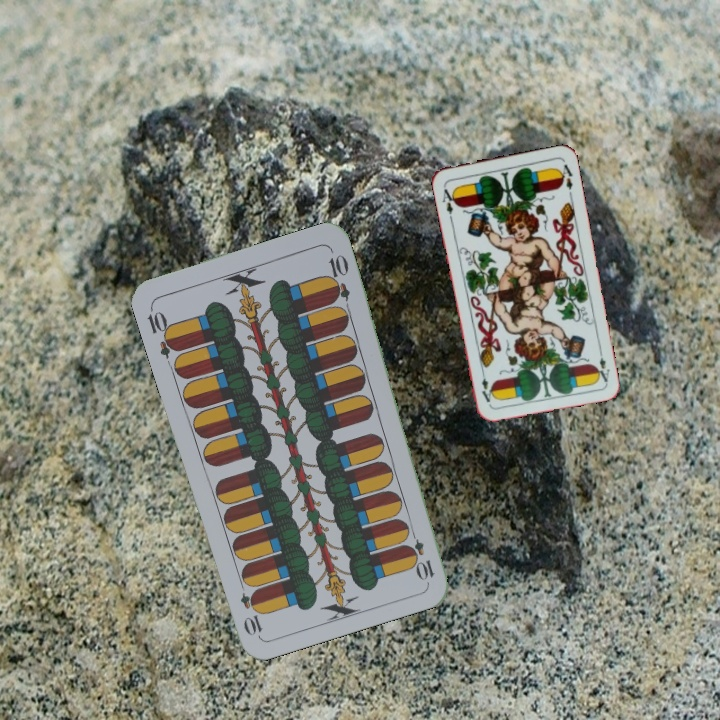E10: (143, 303, 181, 360), (404, 524, 437, 583)
EA: (438, 182, 459, 222), (592, 344, 612, 385)
